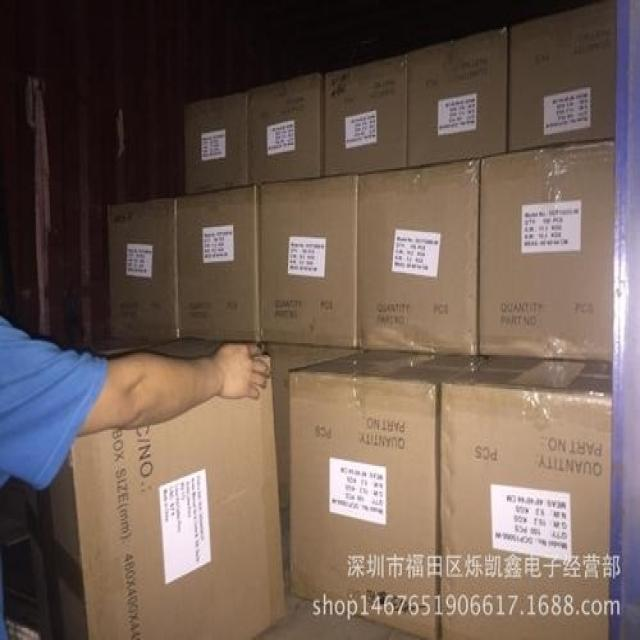box: (23, 354, 287, 638), (288, 348, 495, 638), (441, 357, 611, 638), (479, 137, 615, 362), (260, 341, 369, 596), (357, 157, 480, 355), (257, 172, 359, 348), (506, 0, 617, 153), (406, 28, 507, 166), (177, 185, 260, 341), (324, 54, 408, 175), (108, 197, 178, 342), (246, 72, 325, 186), (184, 92, 250, 195)
